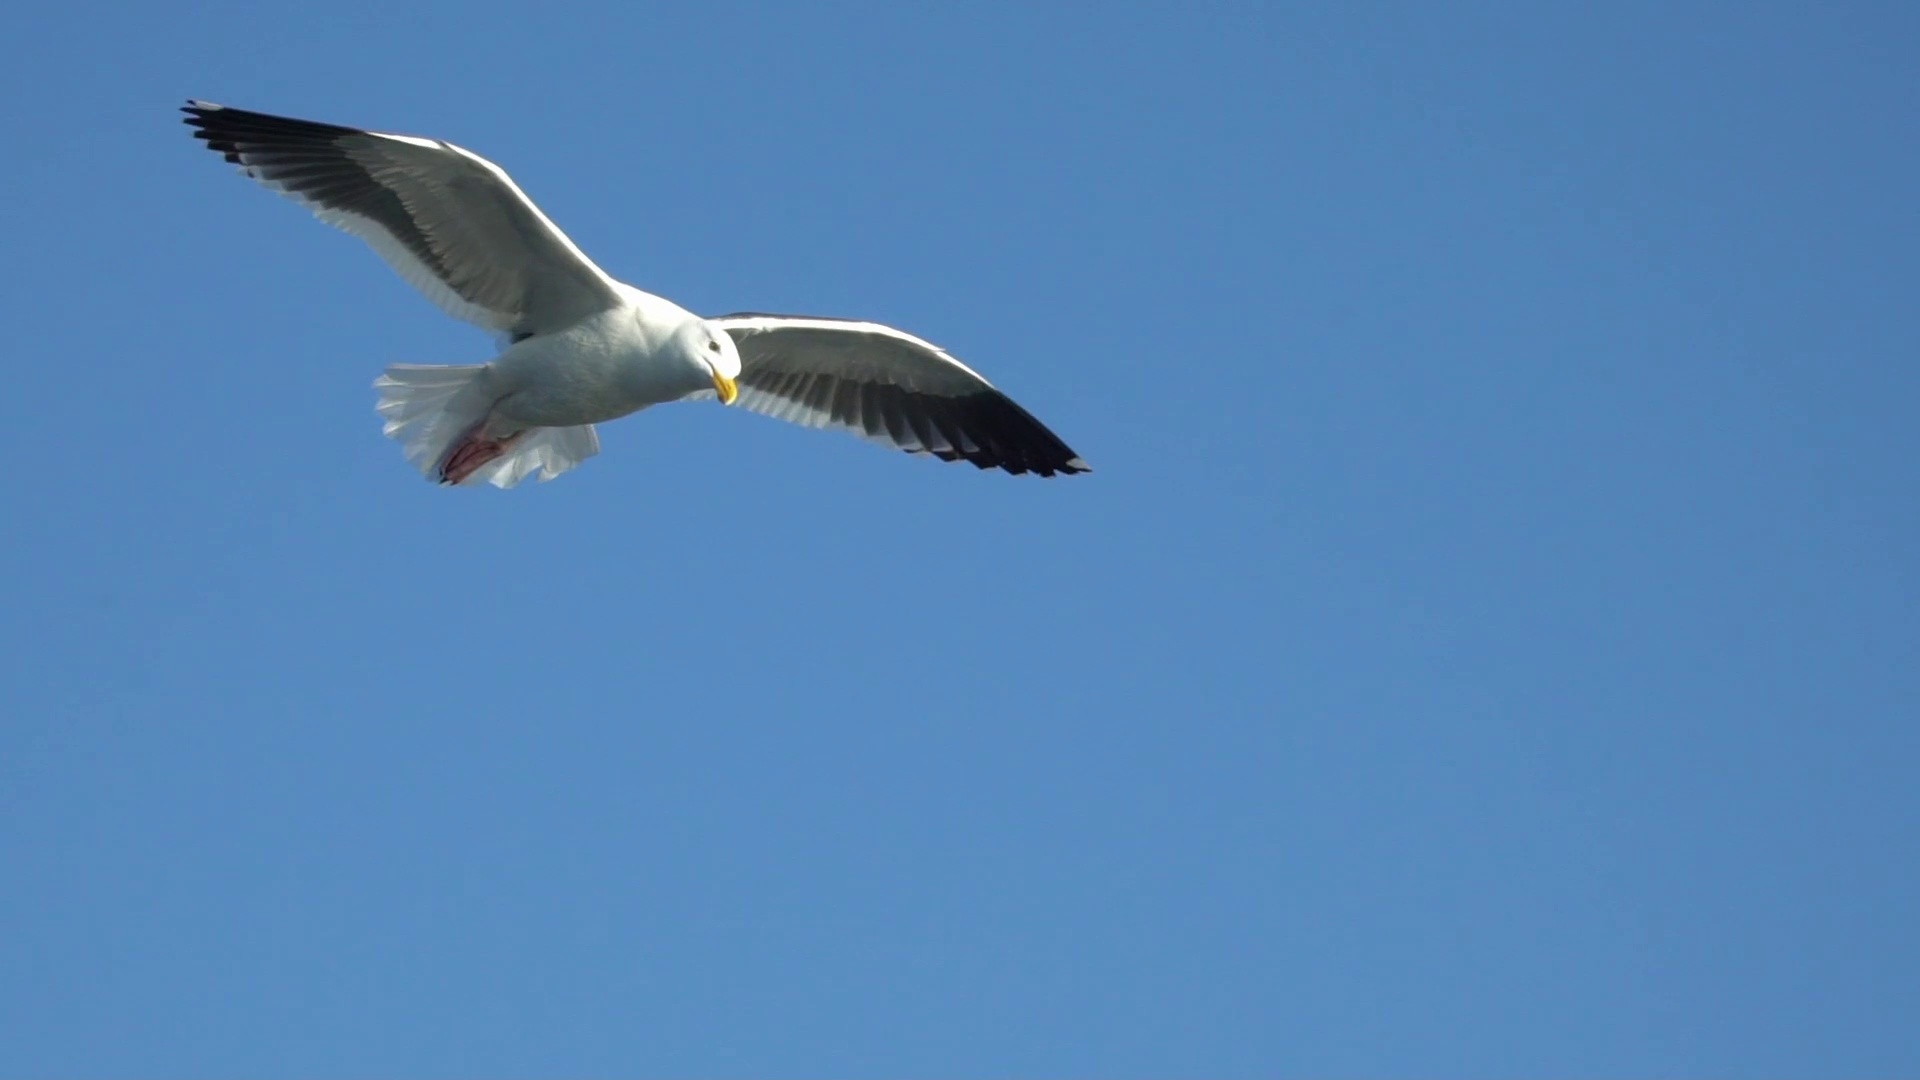bird: (185, 94, 1089, 493)
